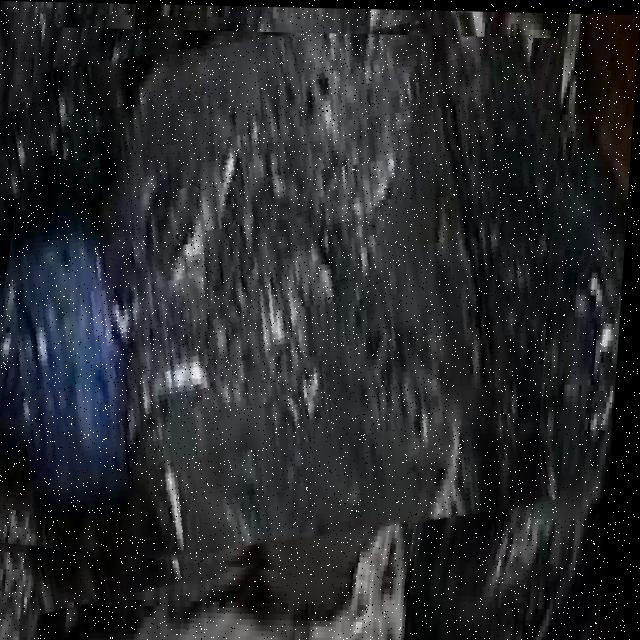plasticbottle: (0, 25, 565, 594)
